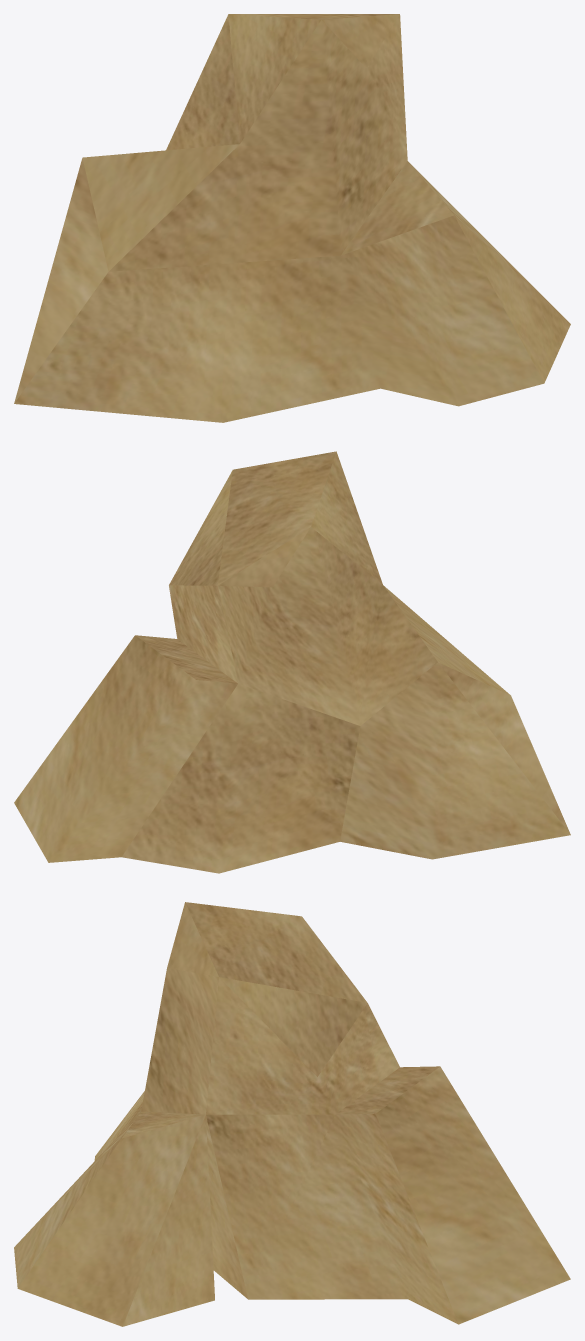
The model's file is rock_clump02_hdtex.glb.
3 renders of one model, top to bottom at view 1: azimuth 30°, elevation 25°; view 2: azimuth 150°, elevation 25°; view 3: azimuth 270°, elevation 25°, orthographic. The views are drawn at different scales.
Parts seen in each view (by area): view 1: Sphere02; view 2: Sphere02; view 3: Sphere02.
Part boxes in pixels (bbox=[...]): Sphere02: bbox=[14, 14, 570, 422]; Sphere02: bbox=[14, 451, 570, 873]; Sphere02: bbox=[14, 902, 570, 1326].
Size of the model in its own units: 19.46 by 12.42 by 19.44.
1 material, 1 textured.
